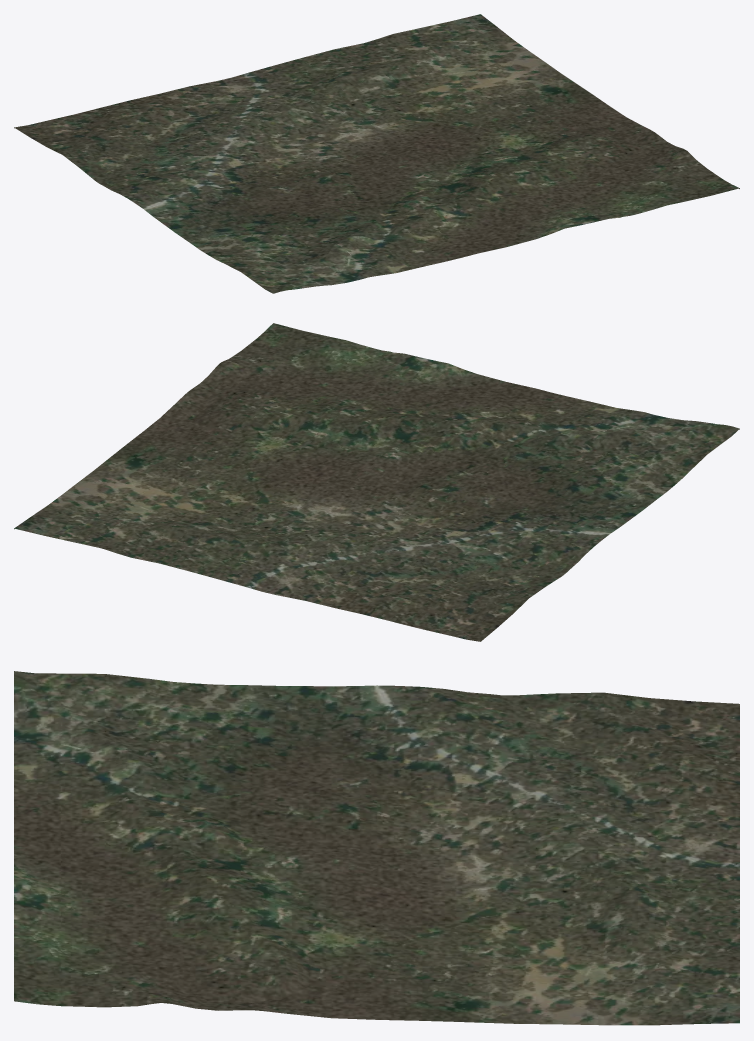
3 renders of one model, top to bottom at view 1: azimuth 30°, elevation 25°; view 2: azimuth 150°, elevation 25°; view 3: azimuth 270°, elevation 25°, orthographic. The views are drawn at different scales.
Size of the model in its own units: 500 by 28.76 by 481.
Materials: 1 (1 with a texture image).
